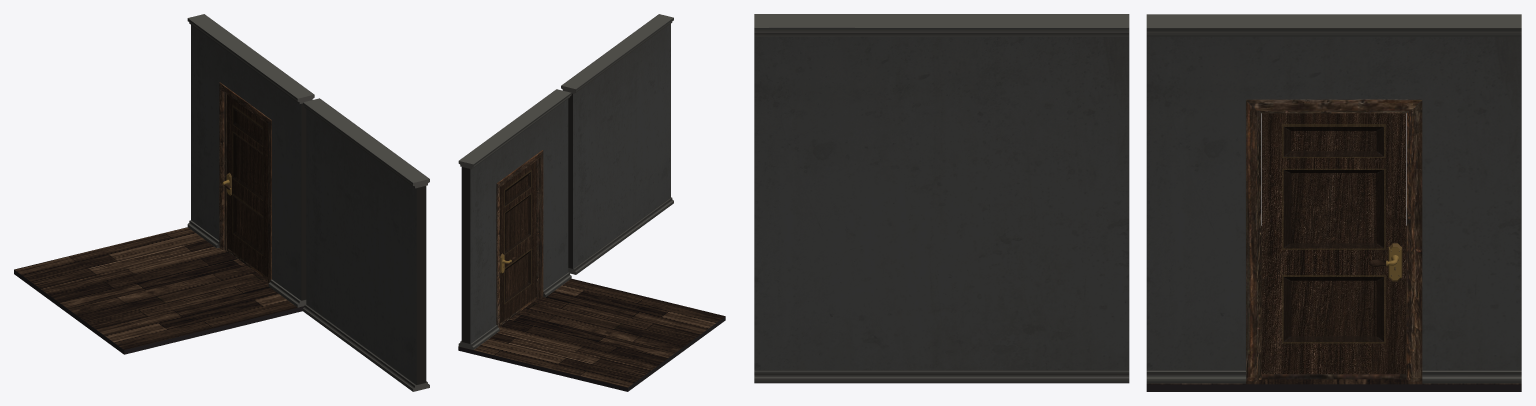
Rendered from Door and walls.glb.
3 views of the same model, side by side, from view 1: azimuth 30°, elevation 25°; view 2: azimuth 150°, elevation 25°; view 3: azimuth 270°, elevation 25° (orthographic). The views are drawn at different scales.
Visible parts, largest first — view 1: Wall, Floor, DoorframeWall, Door; view 2: Wall, DoorframeWall, Floor, Door; view 3: Wall, DoorframeWall, Door, Floor.
Part boxes in pixels (x1=…): Wall: x1=303, y1=98, x2=429, y2=391; Floor: x1=14, y1=227, x2=304, y2=354; DoorframeWall: x1=187, y1=14, x2=314, y2=307; Door: x1=222, y1=95, x2=267, y2=277; Wall: x1=561, y1=14, x2=673, y2=274; DoorframeWall: x1=458, y1=89, x2=571, y2=349; Floor: x1=458, y1=278, x2=725, y2=391; Door: x1=500, y1=161, x2=536, y2=323; Wall: x1=754, y1=14, x2=1129, y2=383; DoorframeWall: x1=1146, y1=14, x2=1521, y2=383; Door: x1=1262, y1=113, x2=1406, y2=374; Floor: x1=1146, y1=226, x2=1521, y2=391.
Size of the model in its own units: 15.87 by 16.69 by 31.92.
5 materials, 5 textured.
